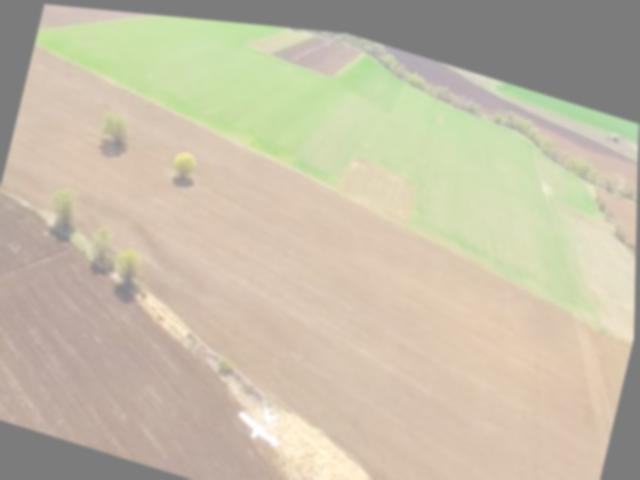uav: (225, 383, 295, 456)
